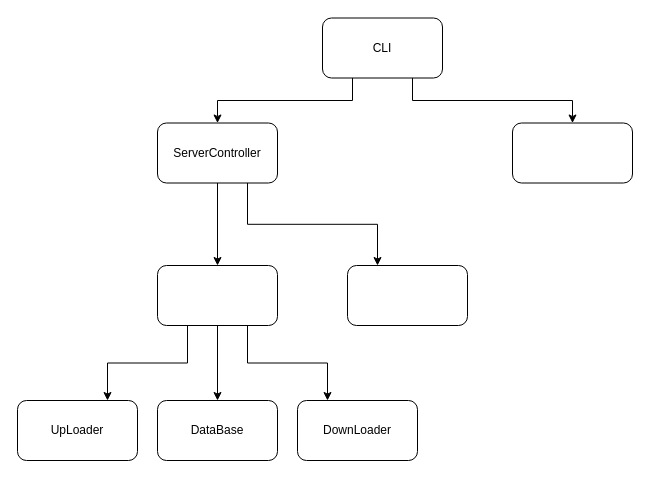
The diagram is 650 pixels wide and 478 high, and some of its shapes have lost their labels. The shapes that lost their labels are listed below. From the top down, each one's box as (x1, y1, x2, y2) in pixels, then its label:
(512, 122, 632, 183): Parser
(156, 264, 278, 326): Network
(346, 264, 468, 326): Config
